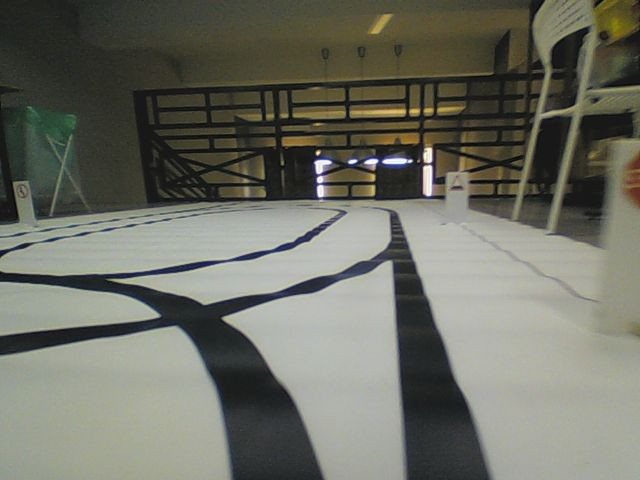Nerov: (449, 174, 465, 193)
